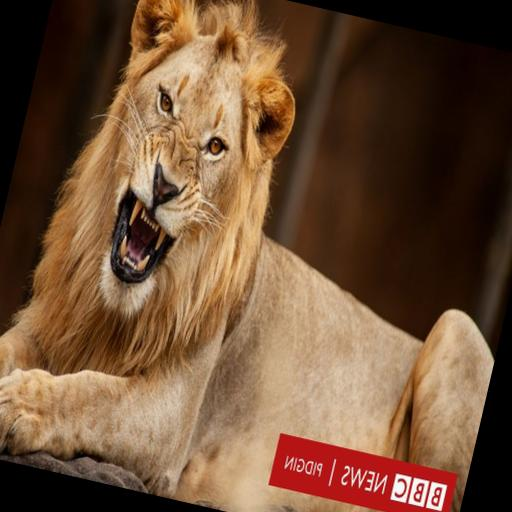lions: (0, 0, 373, 446)
